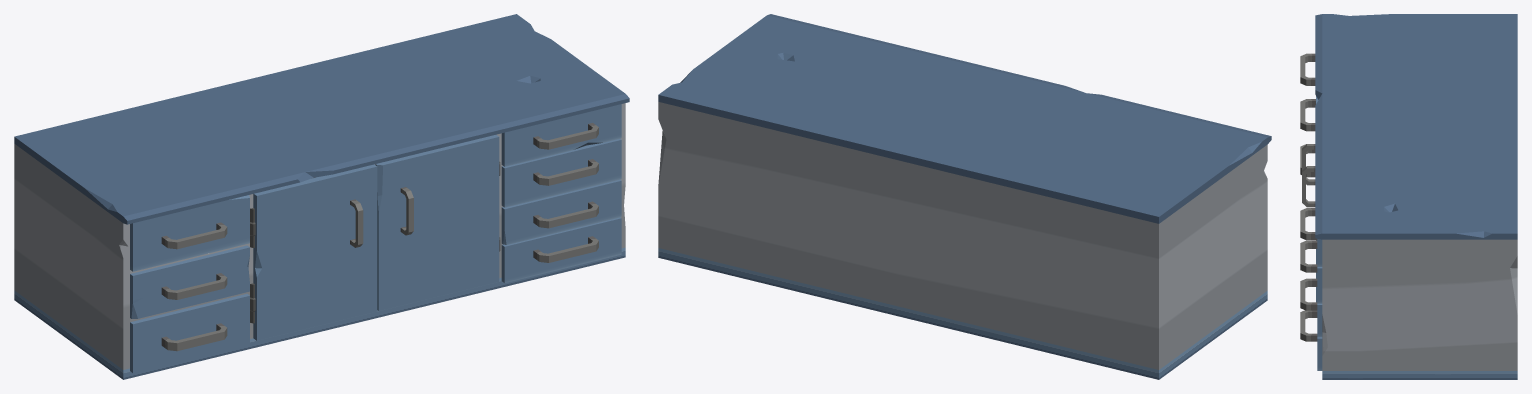
File: SM_Prop_Bench_01.fbx
The picture shows the model from 3 angles, left to right: view 1: azimuth 30°, elevation 25°; view 2: azimuth 150°, elevation 25°; view 3: azimuth 270°, elevation 25°; orthographic projection. The views are drawn at different scales.
Visible parts, largest first — view 1: SM_Prop_Bench_01; view 2: SM_Prop_Bench_01; view 3: SM_Prop_Bench_01.
Part boxes in pixels (x1,y1,x2,y2): SM_Prop_Bench_01: (14, 14, 629, 379); SM_Prop_Bench_01: (658, 14, 1271, 379); SM_Prop_Bench_01: (1300, 14, 1517, 379).
Size of the model in its own units: 250 by 77.75 by 105.
